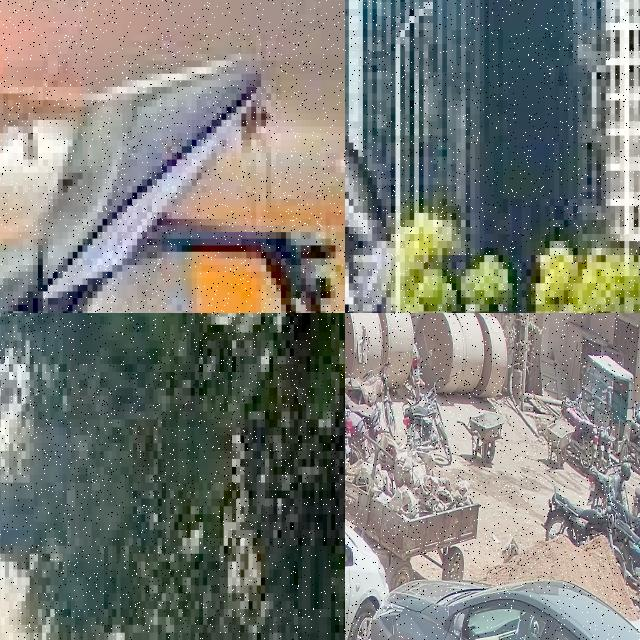bike: (0, 0, 325, 313), (345, 114, 489, 313), (541, 484, 614, 548), (402, 376, 452, 462), (345, 362, 397, 440), (345, 358, 381, 442), (560, 396, 598, 474), (587, 459, 631, 512), (345, 366, 367, 461), (615, 513, 640, 586), (611, 491, 640, 541), (629, 420, 640, 471), (631, 477, 640, 518)
